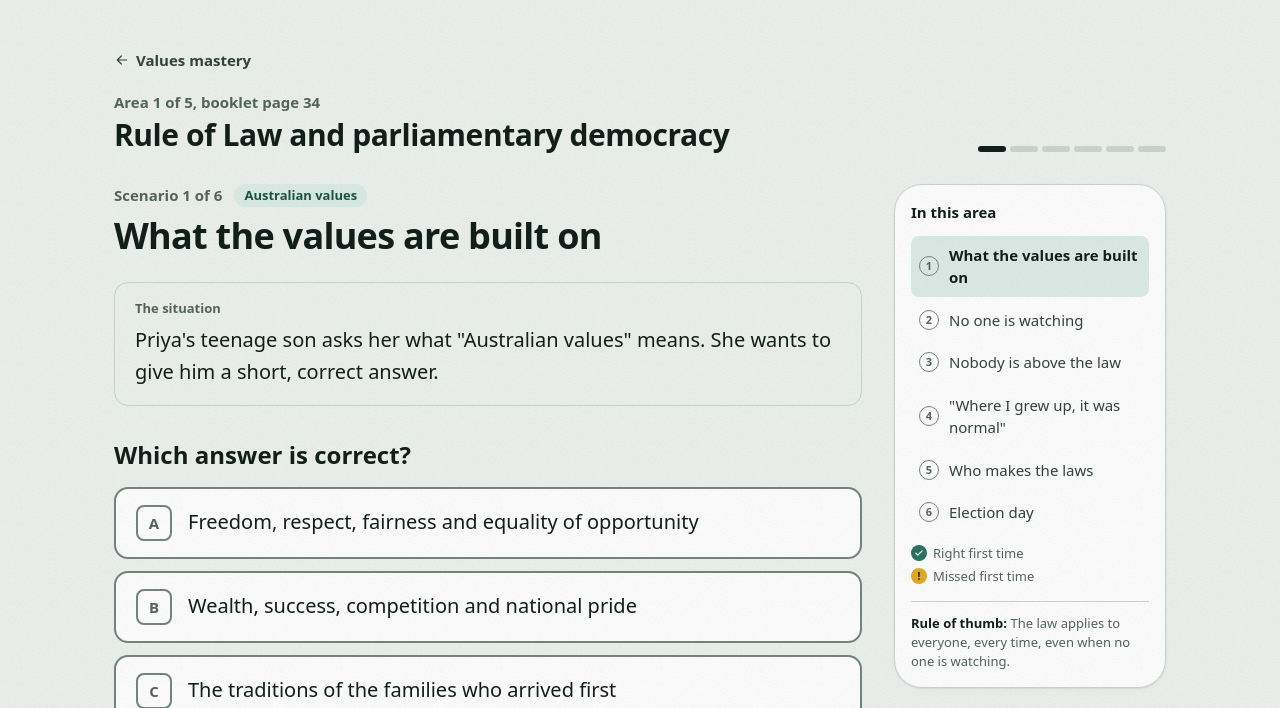
Scenario: ScenarioPlayer › asks first, then explains every option, and records only the first attempt
Check: the heading "What the values are built on" is shown, box [114,211,602,260]
Check: the text "Why each answer is right or wrong" is not shown
Click the radio button labelled "B Wealth, success, competition and national pride": (488, 607) [114,571,862,643]
(page scrolled)
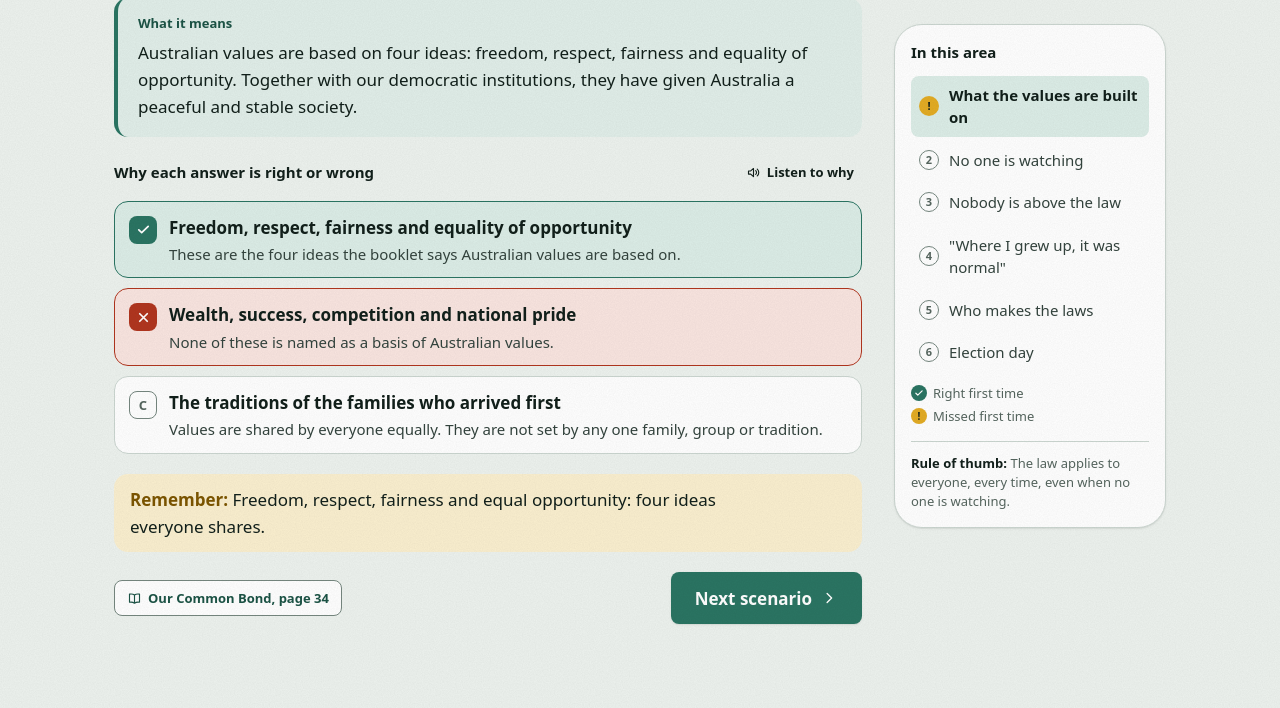
Check: the heading "Why each answer is right or wrong" is shown, box [114,161,374,184]
Check: the text "These are the four ideas the booklet says Australian values are based on." is shown, box [169,243,681,265]
Check: the text "None of these is named as a basis of Australian values." is shown, box [169,330,576,353]
// Coming back and getting it right later doesn't rewrite the first attempt.
Click the button "Next scenario": (766, 598) [671,572,862,624]
(page scrolled)
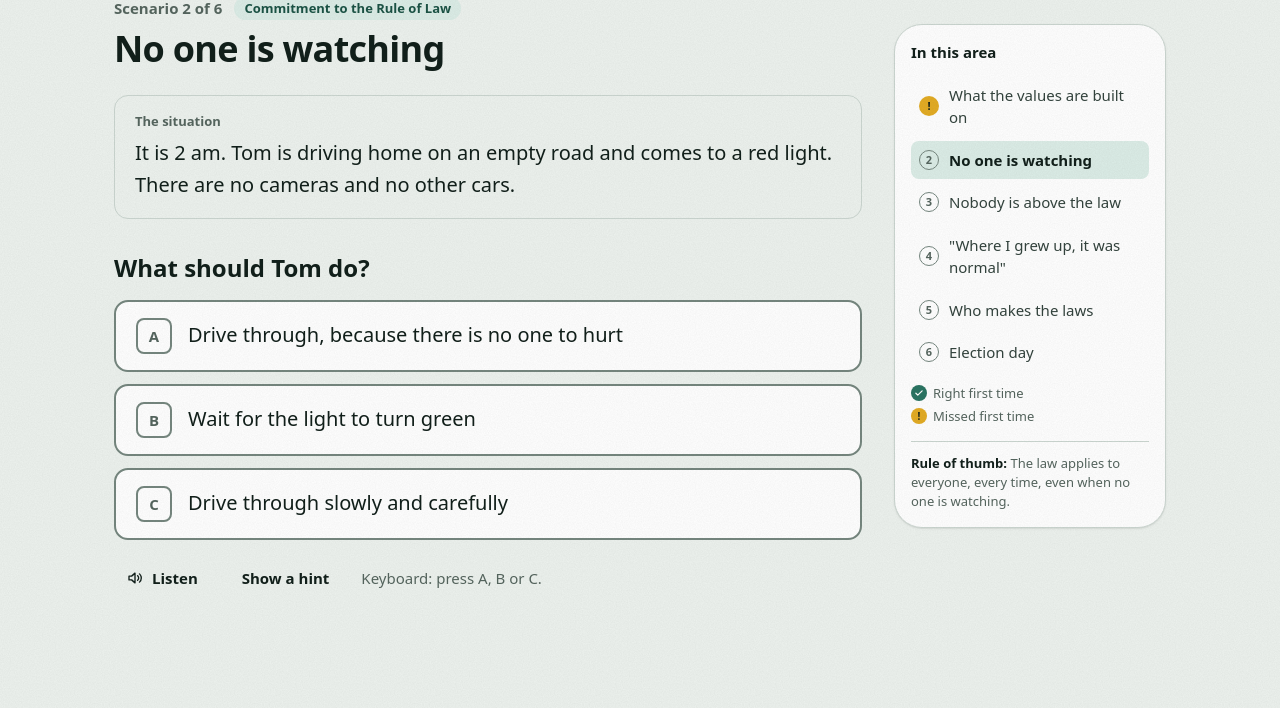
Click the button "! What the values are built on": (1030, 106) [911,76,1149,136]
(page scrolled)
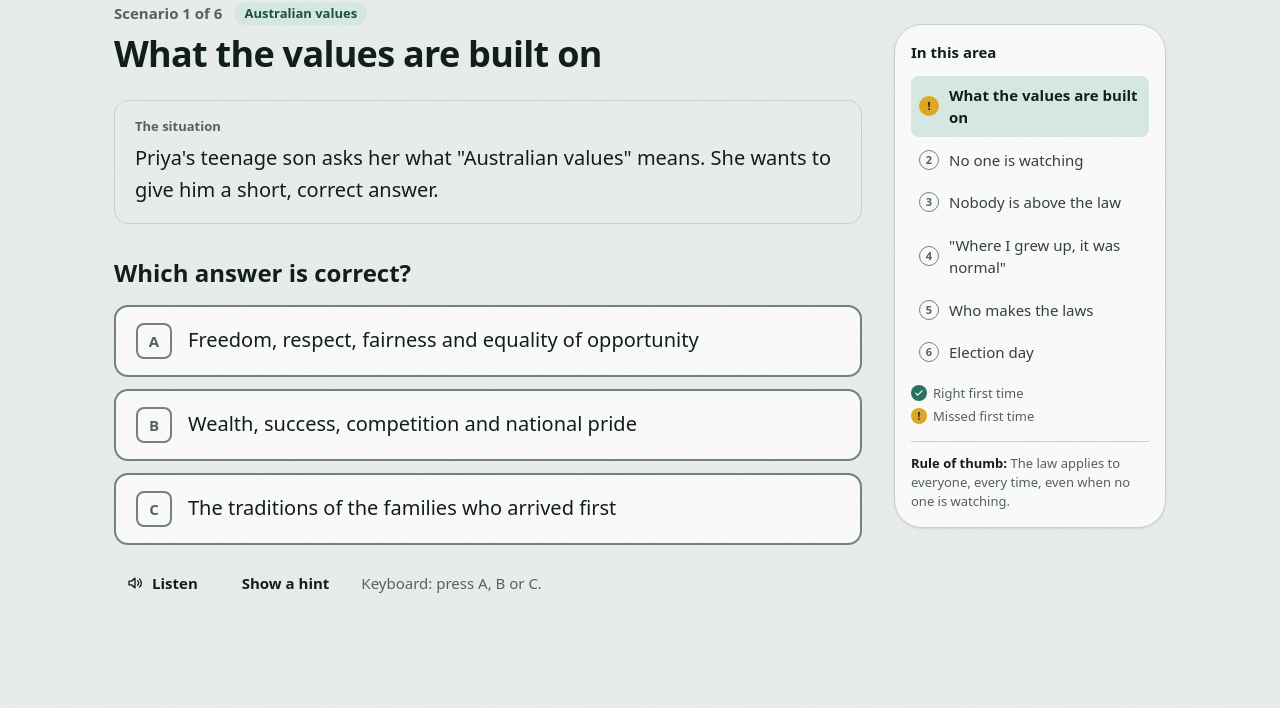
Click the radio button labelled "A Freedom, respect, fairness and equality of opportunity": (488, 341) [114,305,862,377]
(page scrolled)
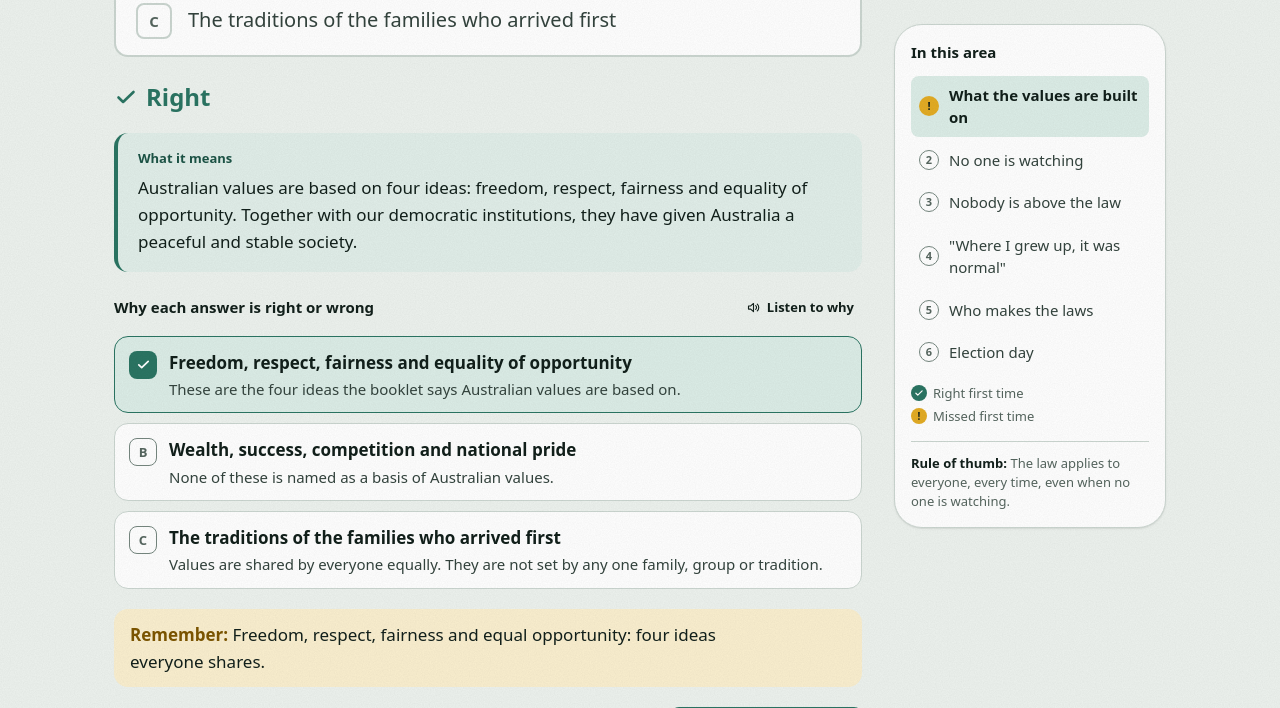
Check: the text "Right" is shown, box [114,80,210,113]
